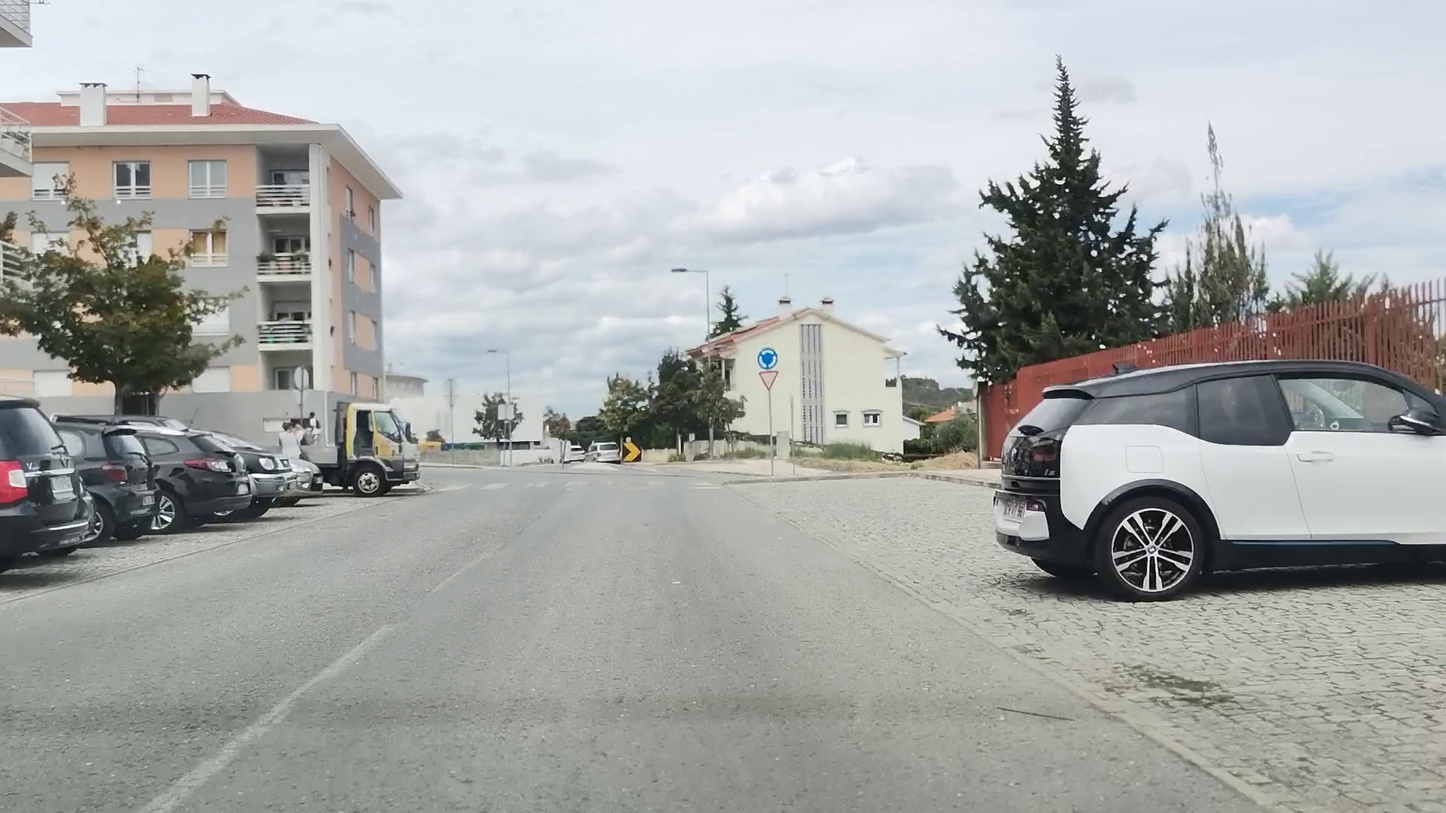Stairs: (432, 476, 723, 498)
